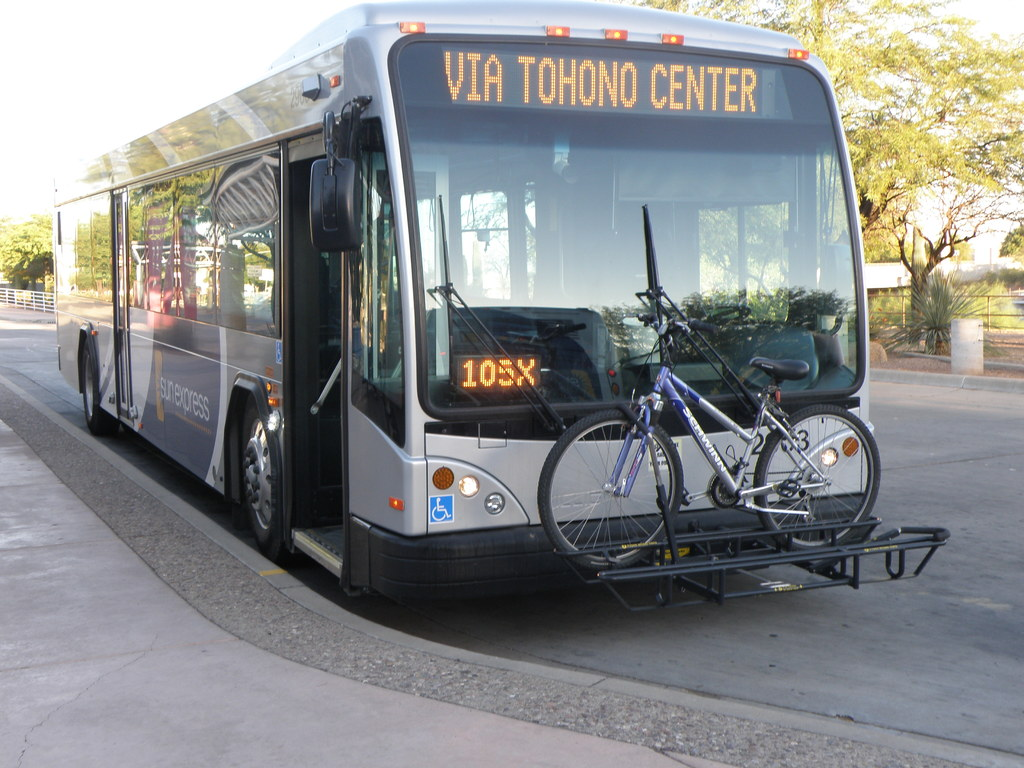Bus: (57, 0, 871, 609)
